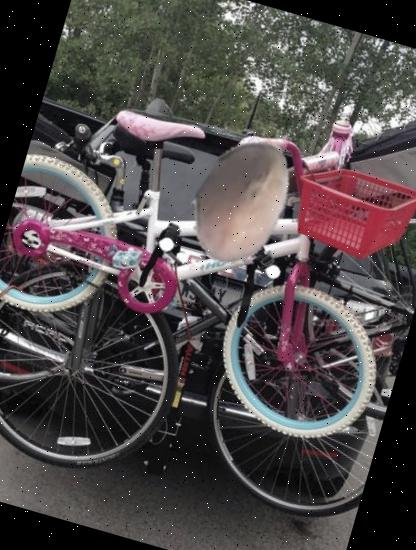Hazelnut: (161, 120, 323, 282)
